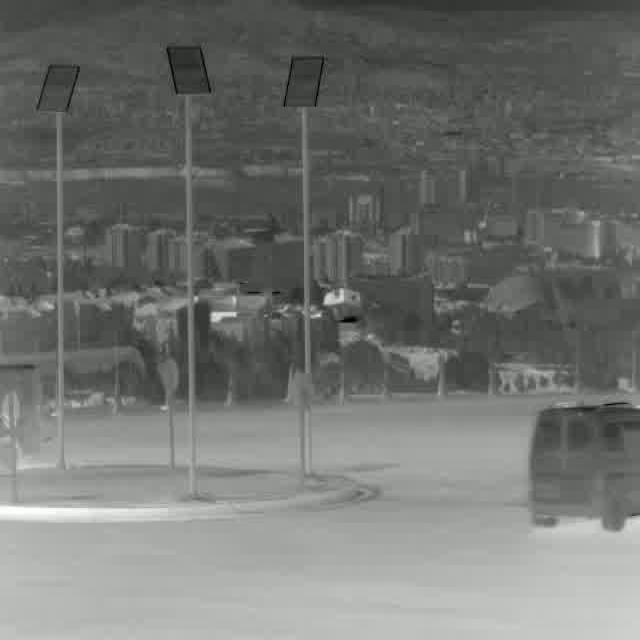Car: (531, 402, 640, 526), (0, 364, 38, 452)
